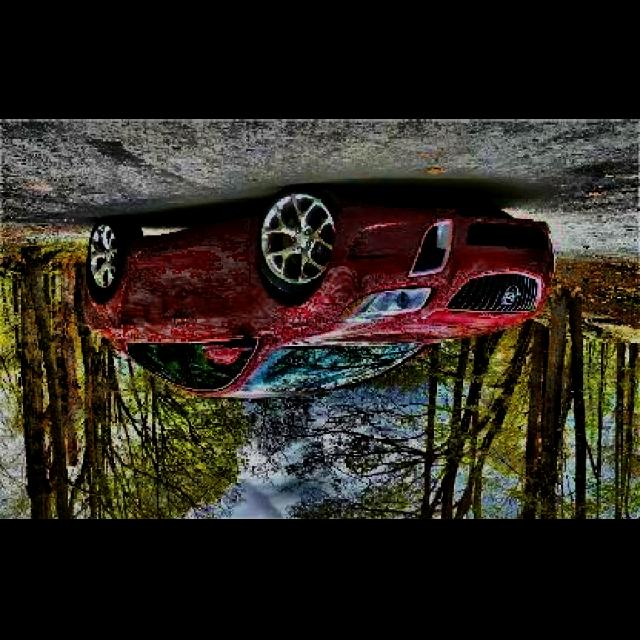maroon: (82, 185, 555, 400)
